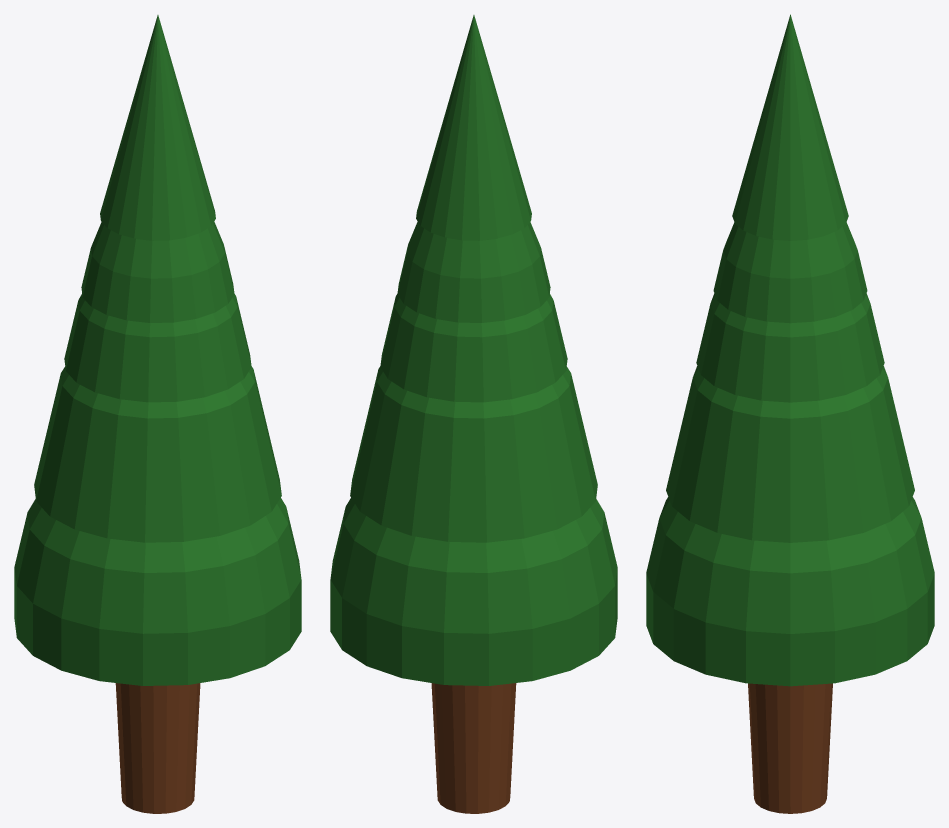
The model's file is PineTree.fbx.
The picture shows the model from 3 angles, left to right: view 1: azimuth 30°, elevation 25°; view 2: azimuth 150°, elevation 25°; view 3: azimuth 270°, elevation 25°; orthographic projection.
Parts seen in each view (by area): view 1: PineTree; view 2: PineTree; view 3: PineTree.
Boxes of the visible parts, x1,y1,x2,y2 form: PineTree: [14, 15, 301, 813]; PineTree: [330, 15, 617, 813]; PineTree: [646, 14, 934, 813].
Size of the model in its own units: 4.84 by 14.52 by 4.84.
